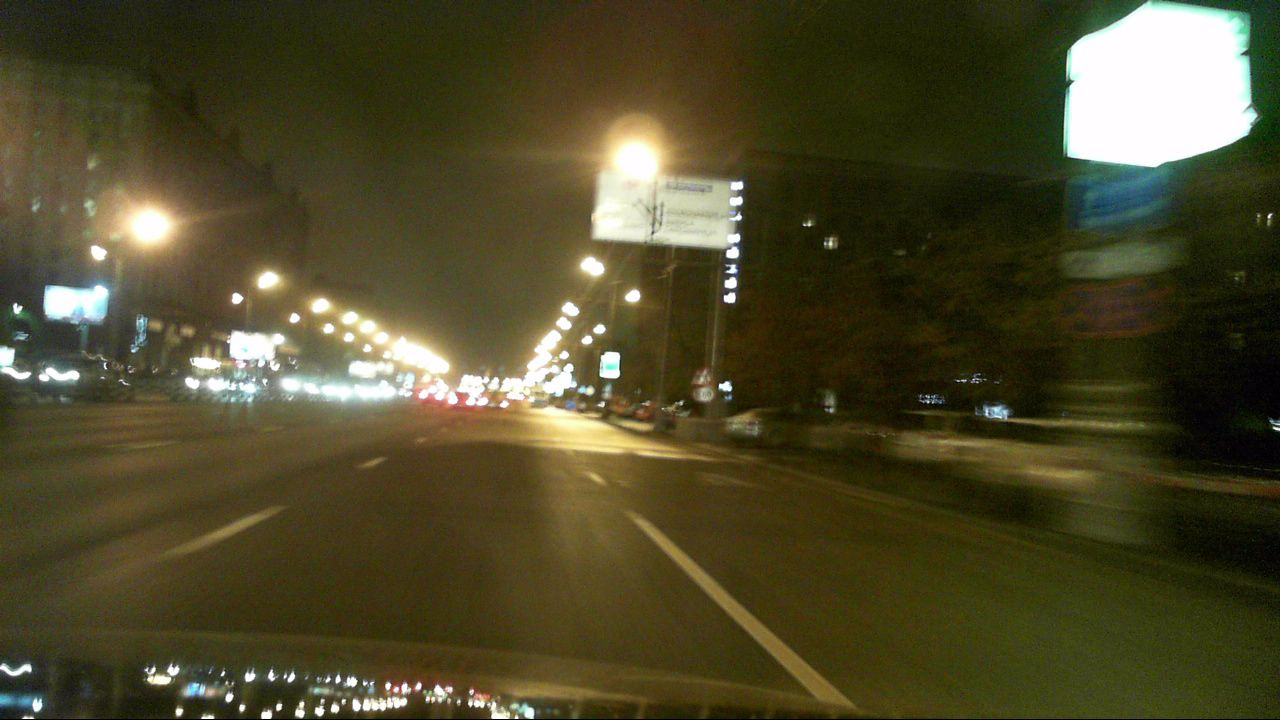No Parking: (1056, 284, 1115, 338)
